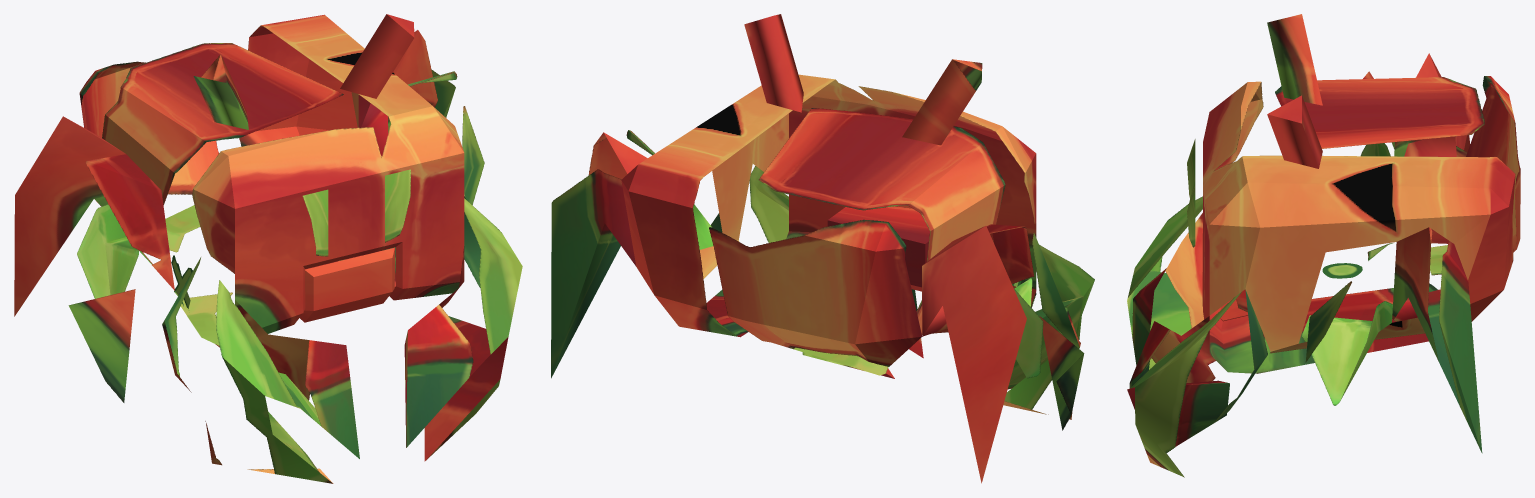
File: alieno4.obj
The picture shows the model from 3 angles, left to right: view 1: azimuth 30°, elevation 25°; view 2: azimuth 150°, elevation 25°; view 3: azimuth 270°, elevation 25°; orthographic projection. The views are drawn at different scales.
Parts seen in each view (by area): view 1: Object_13, Object_14; view 2: Object_13; view 3: Object_13, Object_14.
Boxes of the visible parts, x1=… form: Object_13: x1=14, y1=14, x2=522, y2=483; Object_14: x1=302, y1=169, x2=410, y2=256; Object_13: x1=551, y1=14, x2=1094, y2=483; Object_13: x1=1127, y1=14, x2=1520, y2=477; Object_14: x1=1187, y1=139, x2=1195, y2=247.
Bounding box in the file's own units: 6.24 × 4.9 × 4.53.
